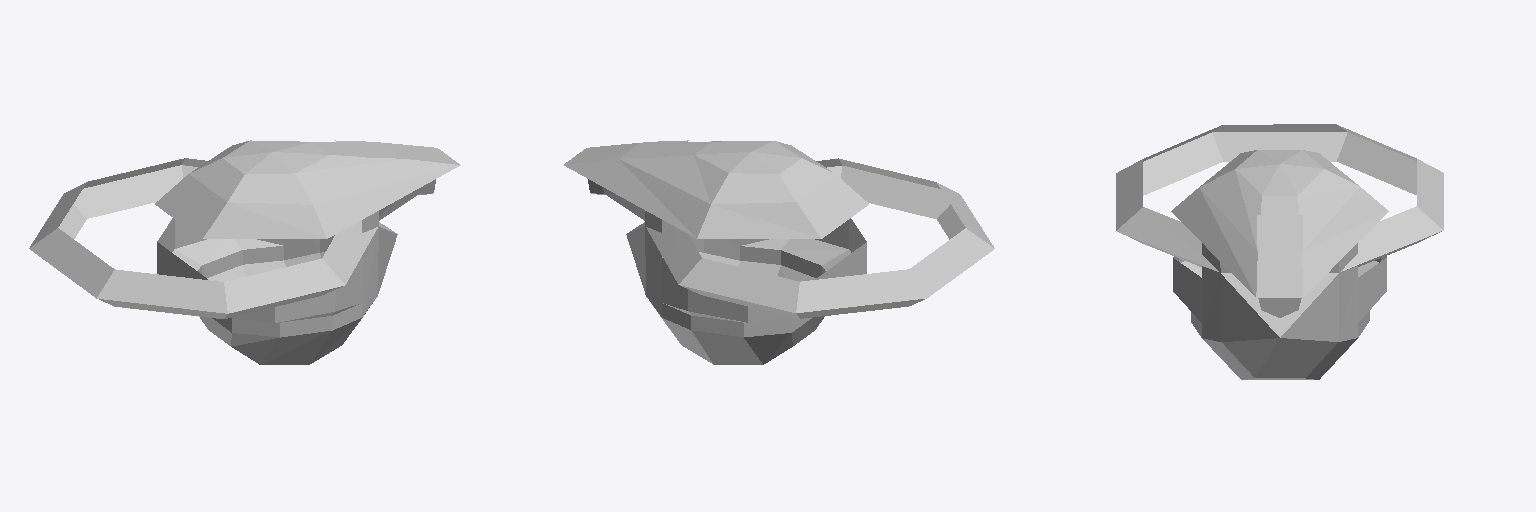
Rendered from Beetle.obj.
3 views of the same model, side by side, from view 1: azimuth 30°, elevation 25°; view 2: azimuth 150°, elevation 25°; view 3: azimuth 270°, elevation 25° (orthographic).
Size of the model in its own units: 27.4 by 13.56 by 20.12.